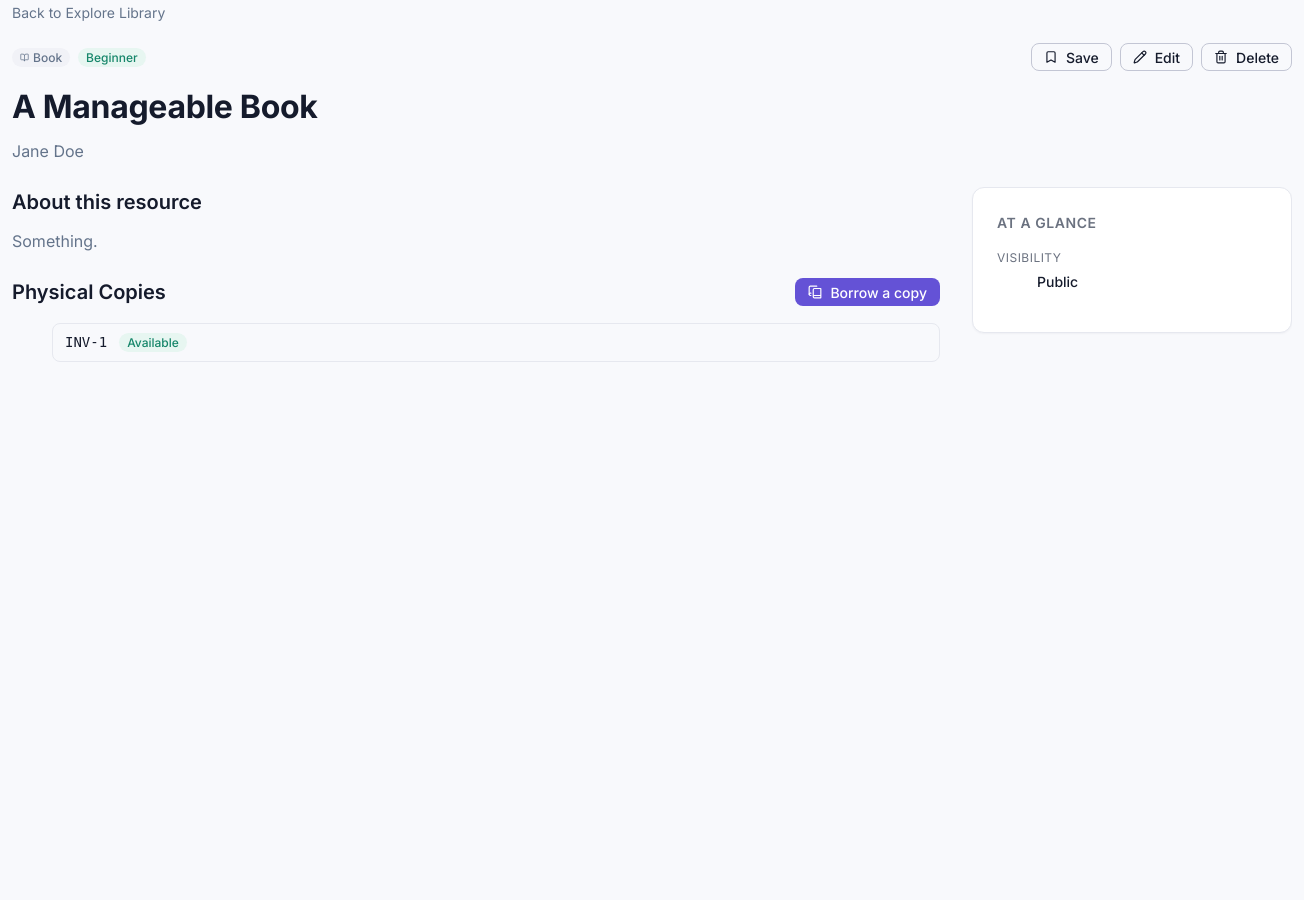
Test: ResourceDetailsPage › physical copies (Task 07) › shows an error toast when borrowing fails (e.g. already has an active loan)
Click the button "Borrow a copy" at (868, 292), box top-left (795, 278), bottom-right (940, 306)
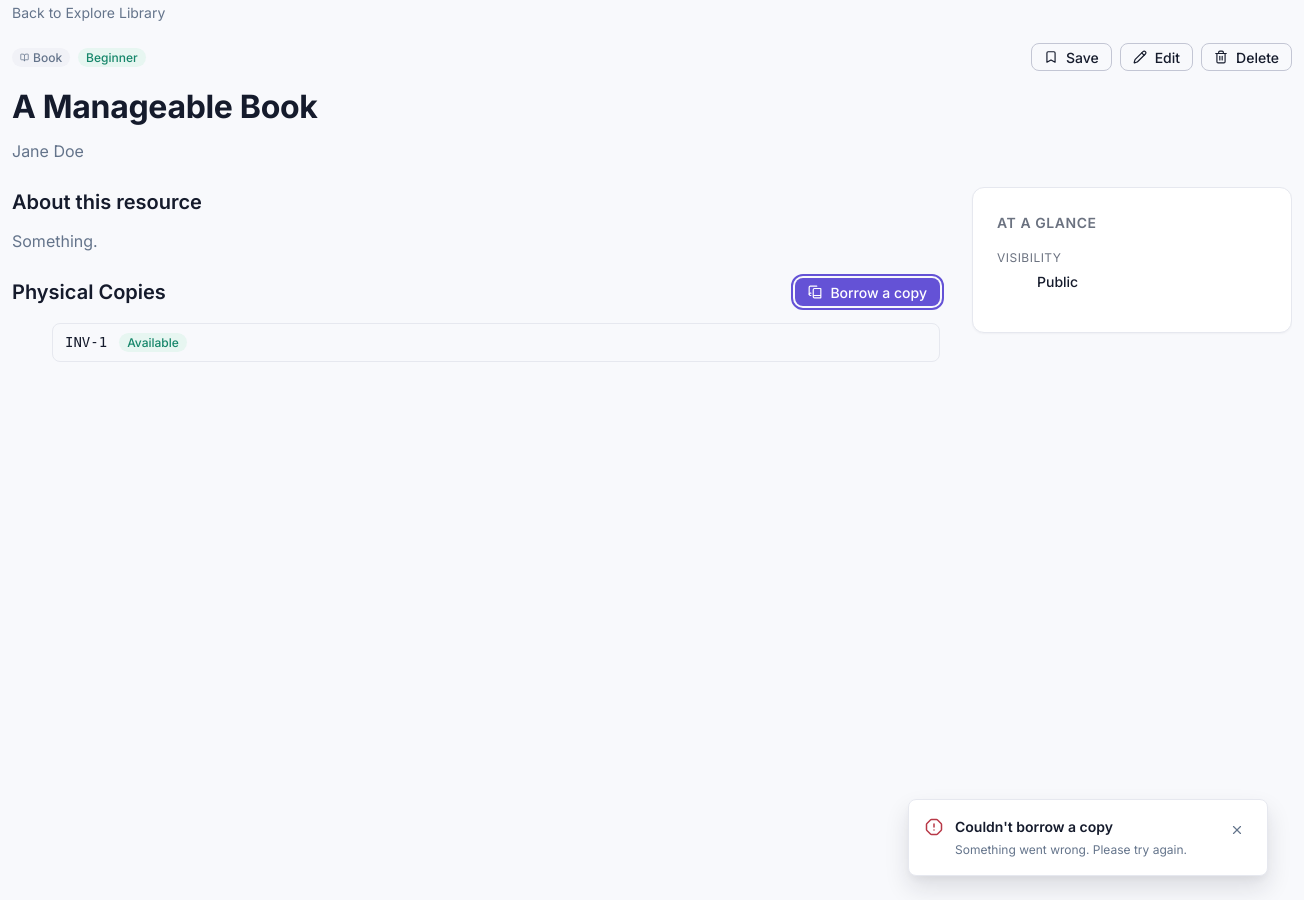
Check: the text "Couldn't borrow a copy" is shown, box top-left (955, 818), bottom-right (1113, 835)
